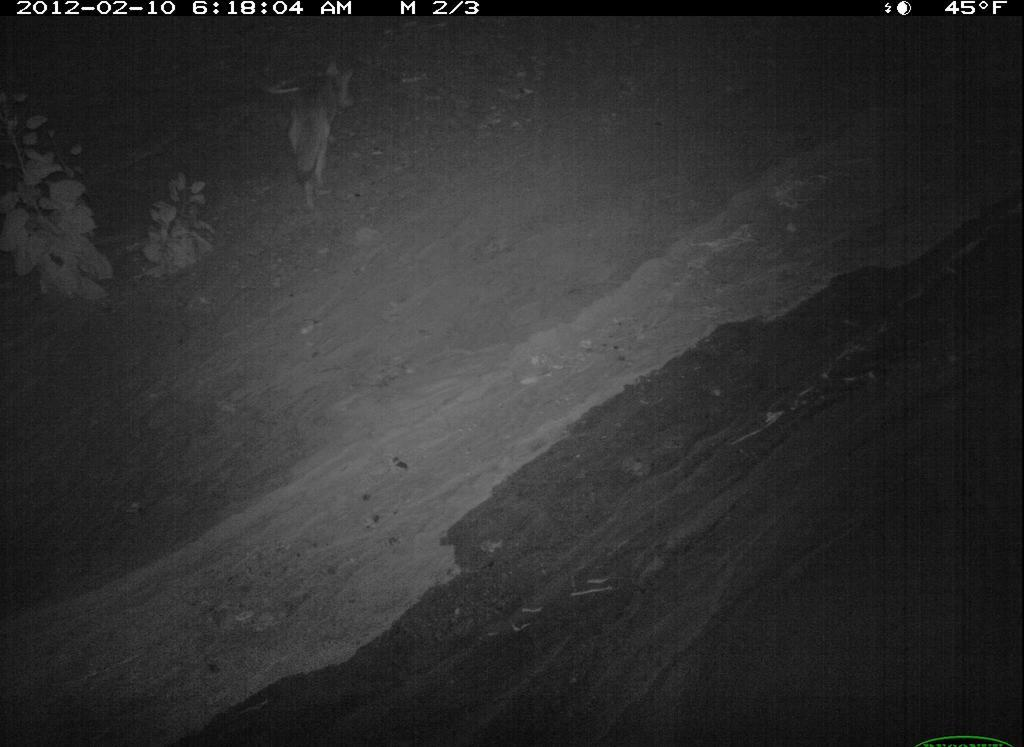coyote: (548, 93, 730, 438)
